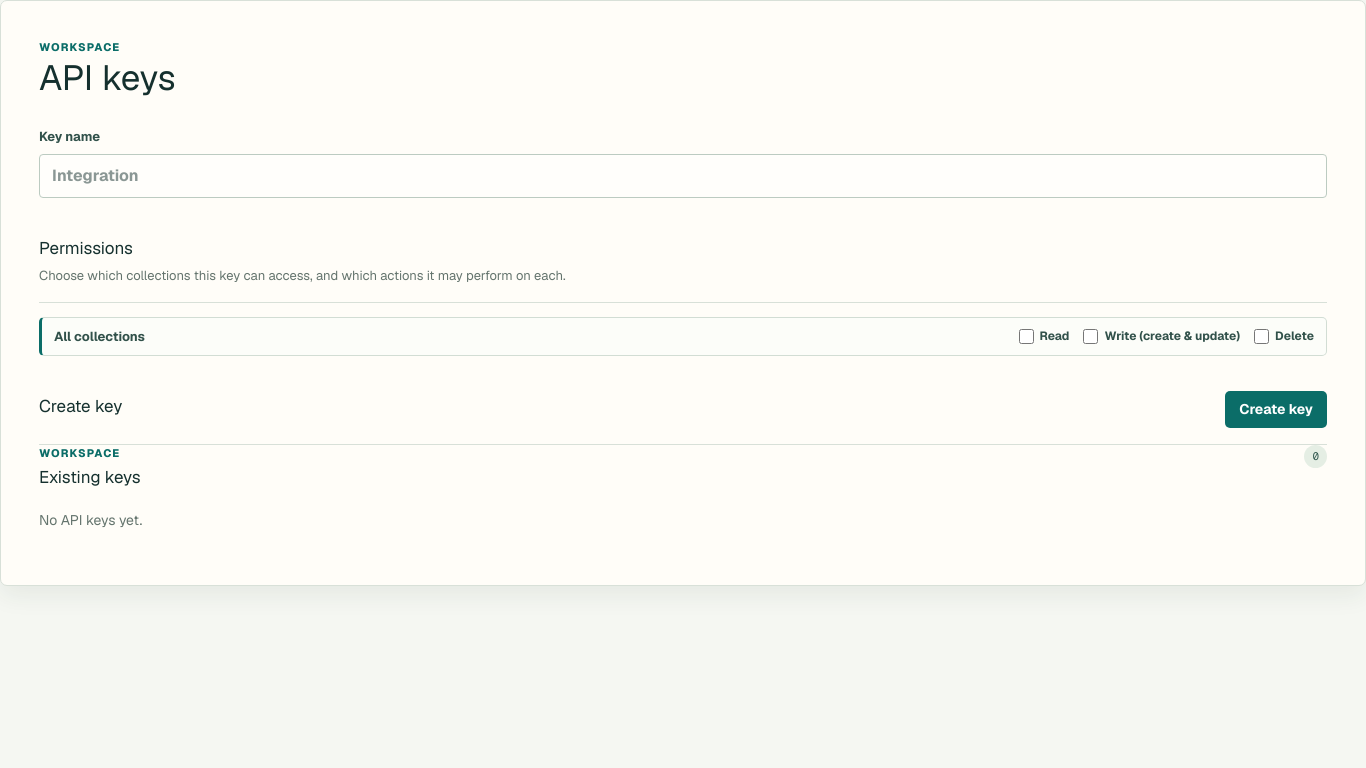
Test: ApiKeysManager › shows the raw secret once after creation, then hides it after Done
Expected: the text "No API keys yet." is shown, top-left (39, 511), bottom-right (142, 529)
In the field with placeholder "Integration": [683, 176] box top-left (39, 154), bottom-right (1327, 198), type "My integration"
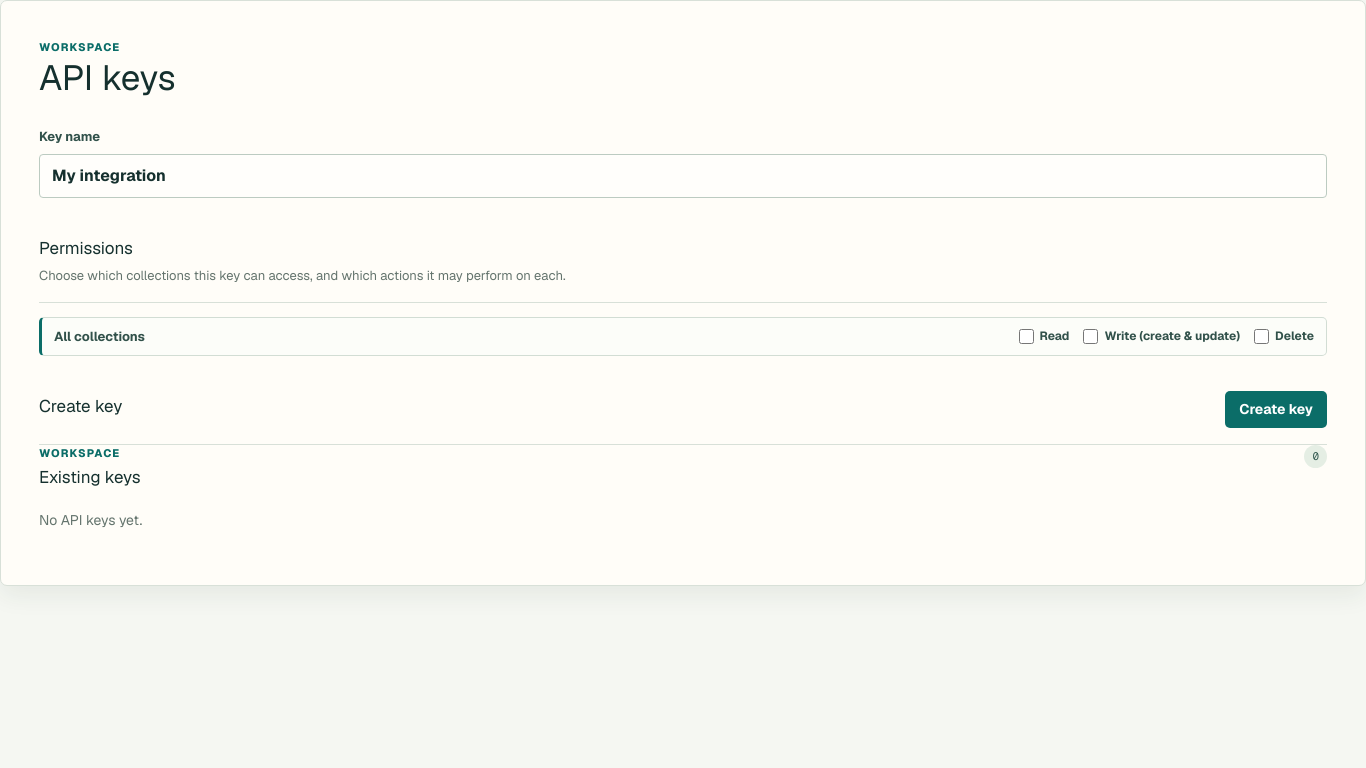
Click the checkbox labelled "Read": [1026, 336] box top-left (1018, 329), bottom-right (1034, 344)
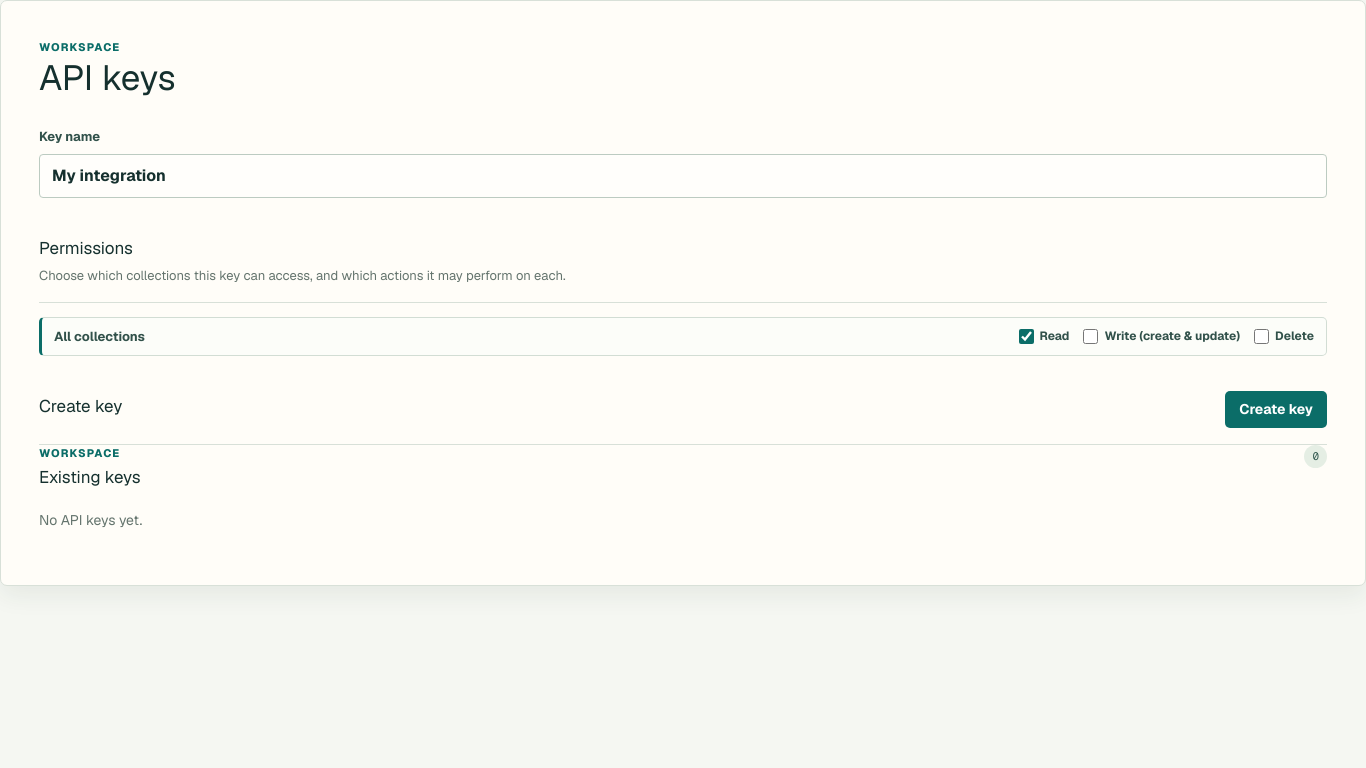
Click the button "Create key": [1276, 410] box top-left (1225, 391), bottom-right (1327, 428)
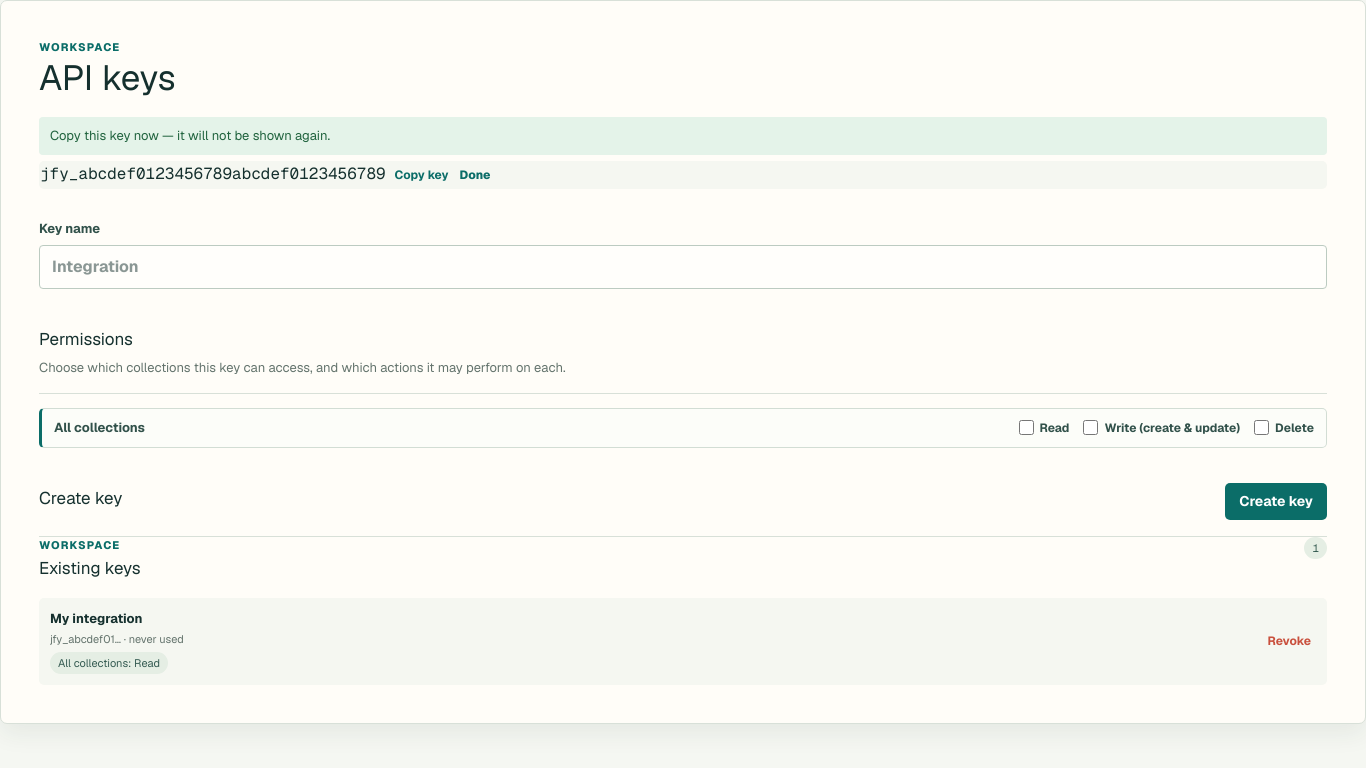
Now the text "jfy_abcdef0123456789abcdef0123456789" is shown, box top-left (40, 162), bottom-right (386, 188)
Click the button "Done": [475, 174] box top-left (460, 162), bottom-right (490, 188)
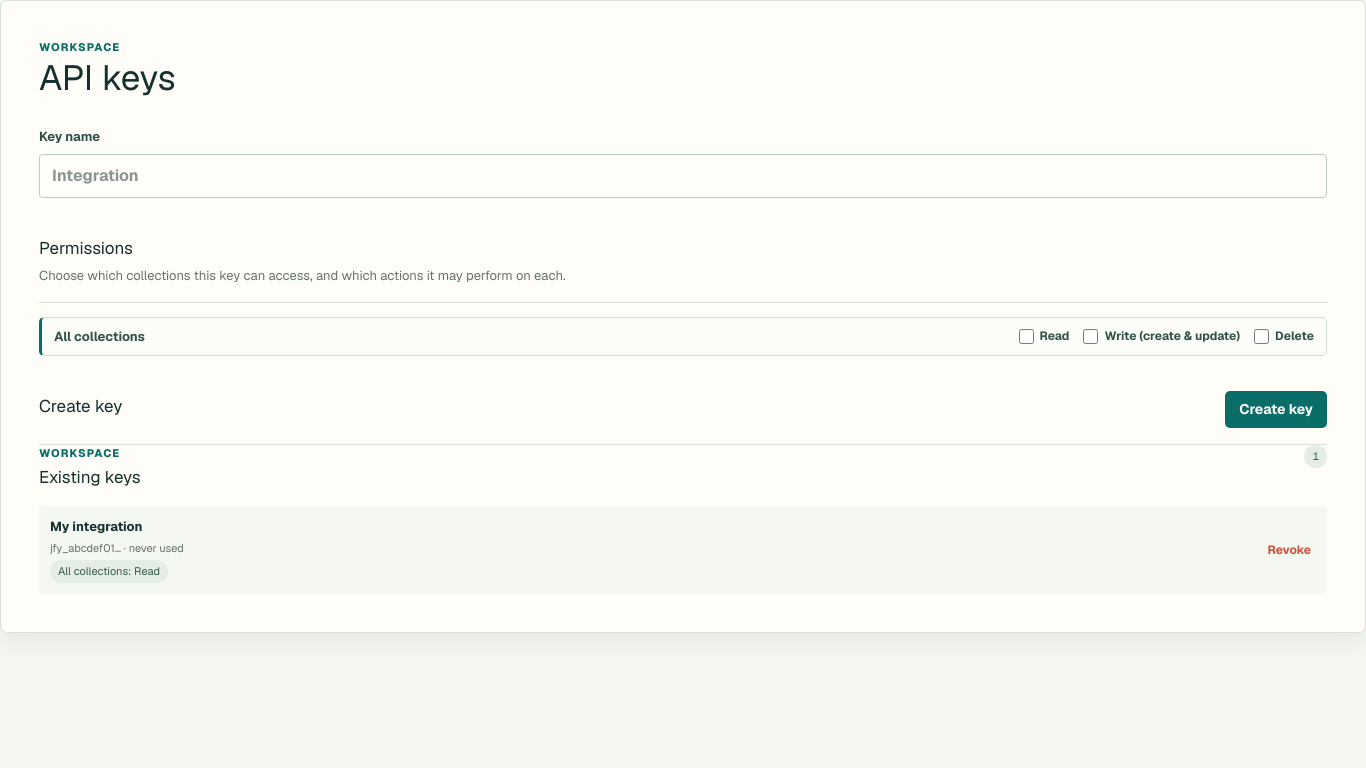
Now the text "jfy_abcdef0123456789abcdef0123456789" is gone
